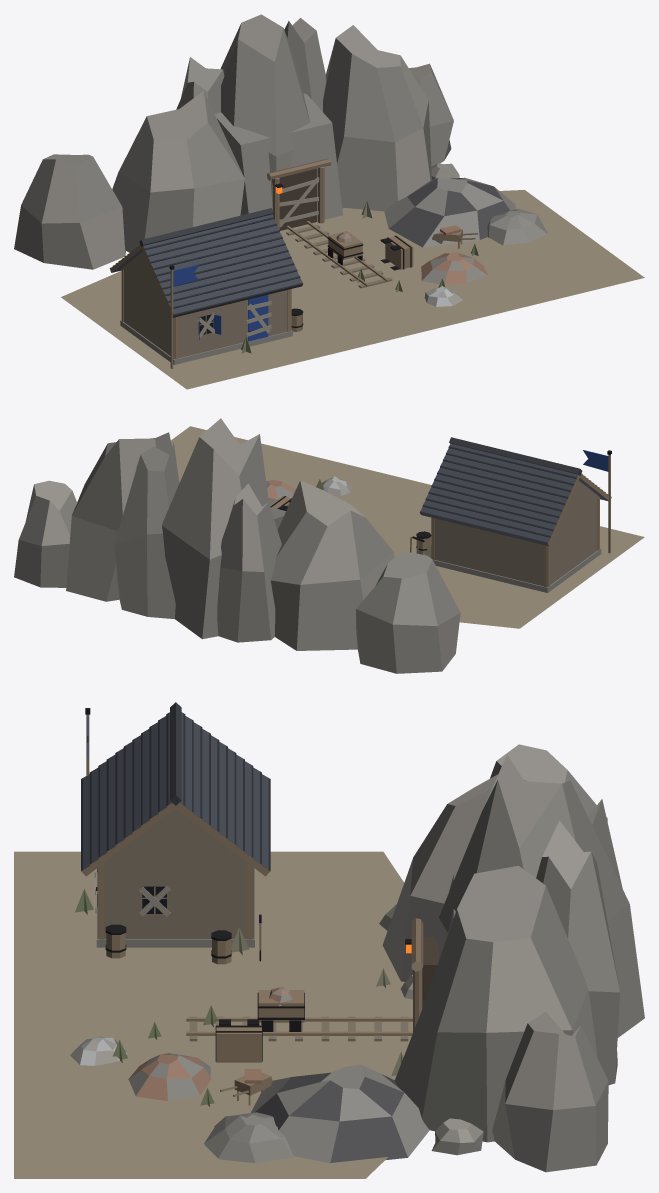
File: grube.glb
3 renders of one model, top to bottom at view 1: azimuth 30°, elevation 25°; view 2: azimuth 150°, elevation 25°; view 3: azimuth 270°, elevation 25°, orthographic. The views are drawn at different scales.
Visible parts, largest first — view 1: Haus, Arbeit, Leerstand, Fahne; view 2: Haus, Arbeit, Fahne; view 3: Haus, Arbeit, Leerstand.
Part boxes in pixels (<box>): Haus: <box>14,14,644,389</box>; Arbeit: <box>275,183,487,306</box>; Leerstand: <box>197,176,478,353</box>; Fahne: <box>169,265,198,368</box>; Haus: <box>14,418,644,673</box>; Arbeit: <box>266,476,431,554</box>; Fahne: <box>583,450,611,553</box>; Haus: <box>14,702,644,1178</box>; Arbeit: <box>70,914,411,1105</box>; Leerstand: <box>74,869,403,1106</box>.
Size of the model in its own units: 22 by 8.18 by 17.93.
